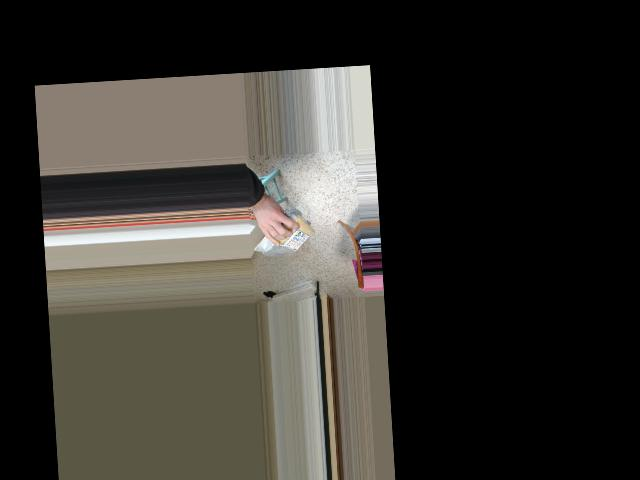cheese: (251, 218, 313, 255)
